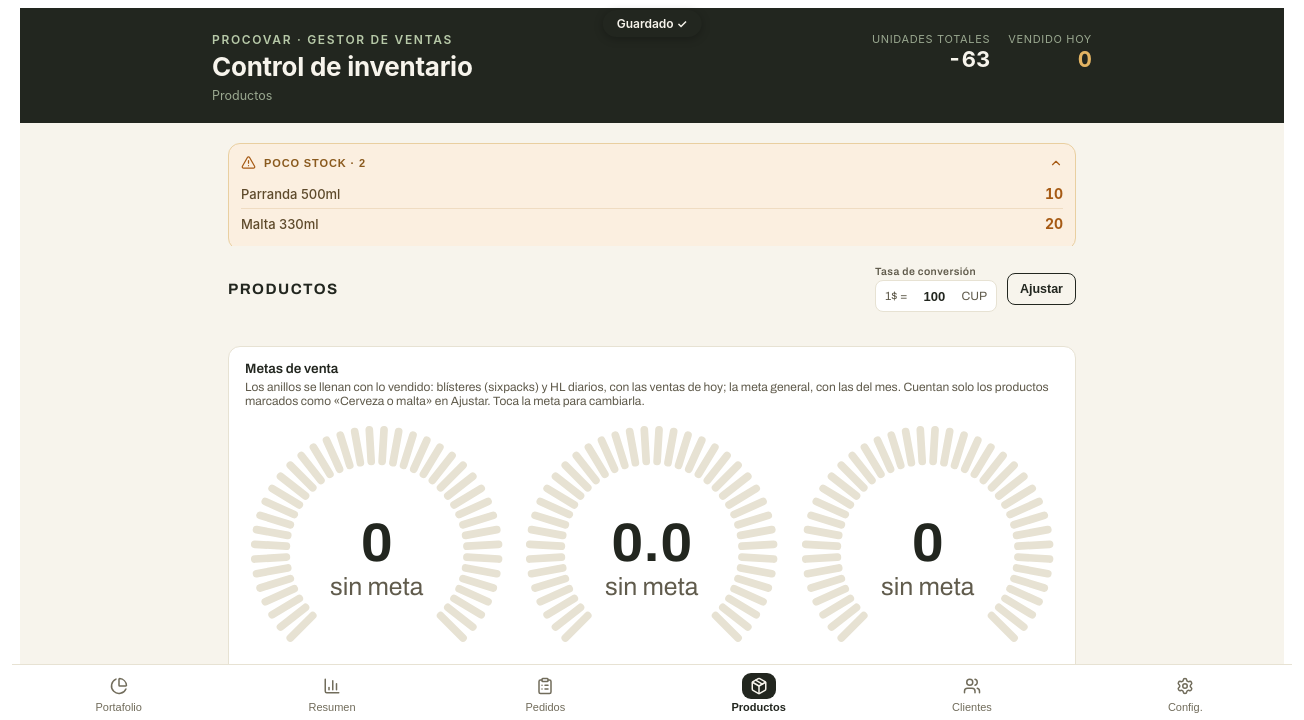
Test: Productos: mover solo en modo Ajustar › en modo Ajustar hay una agarradera por producto
The width and height of the screenshot is (1304, 720).
Click the button "Ajustar": click(1041, 289) [1007,273,1076,305]
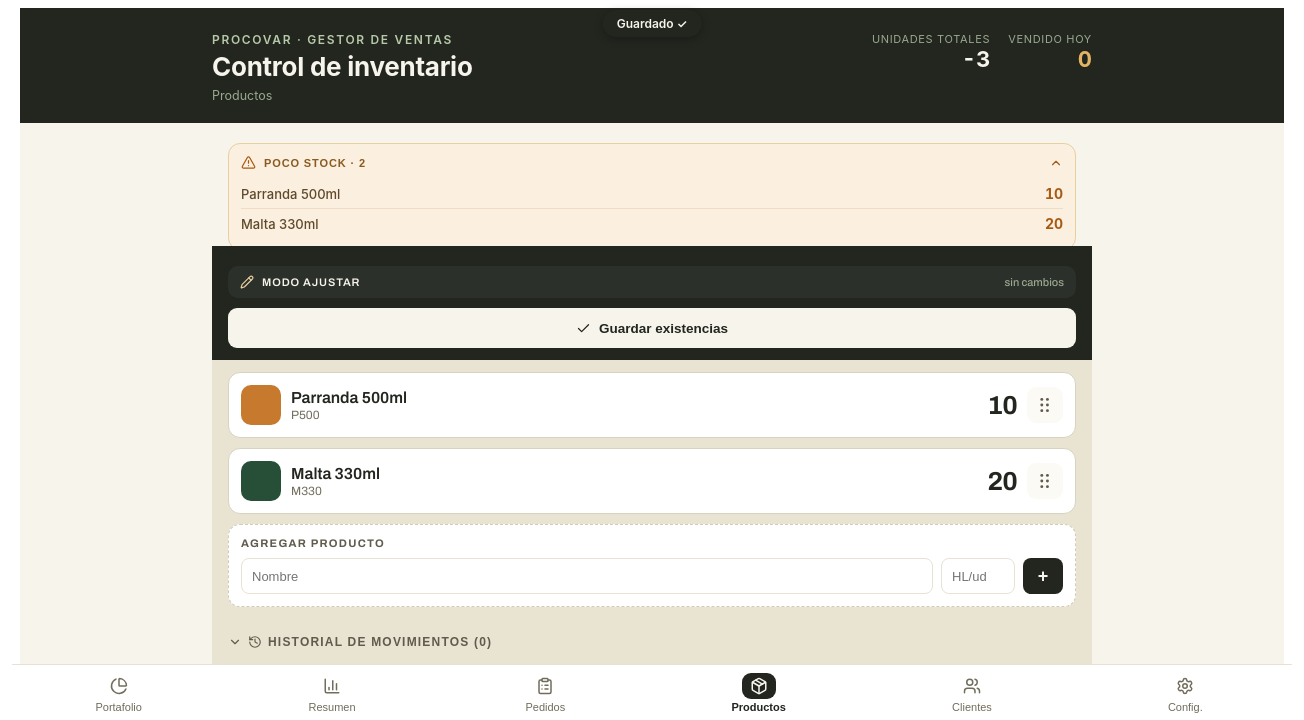
Result: the number of buttons named "Arrastrar para reordenar" is 2 at [1027,387,1063,423]; [1027,463,1063,499]
